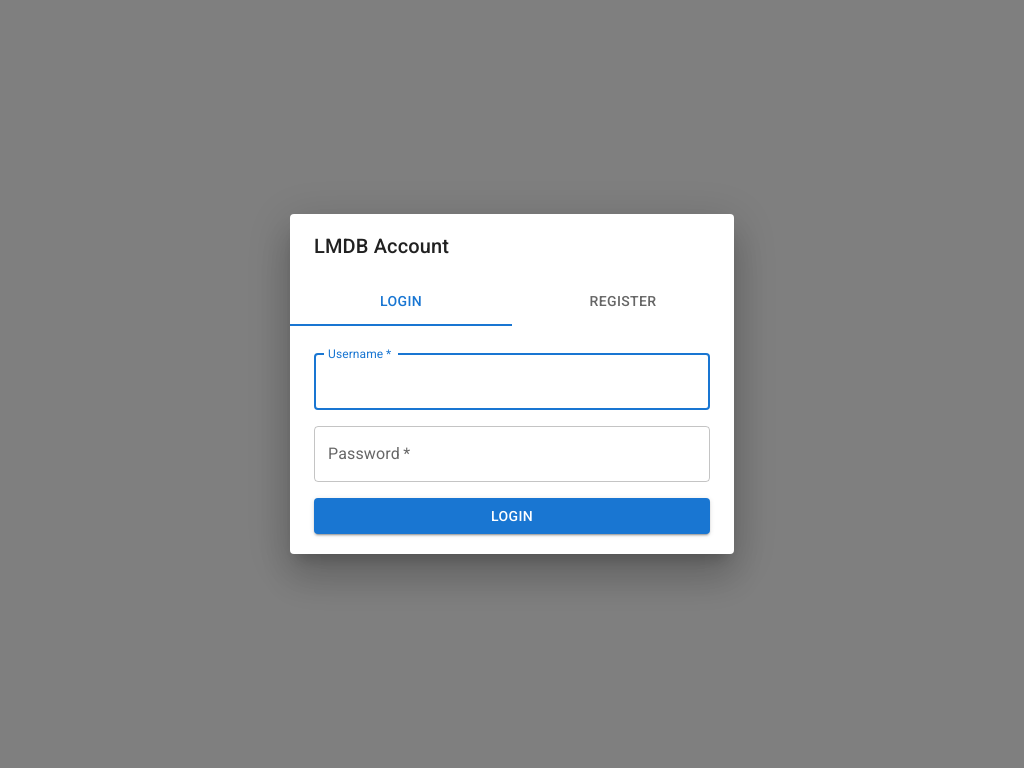
Test: LoginDialog › shows the Register fields only after switching tabs
Expected: the field labelled "email" is not shown
Click the tab "Register": (623, 302) [512,278,734,326]
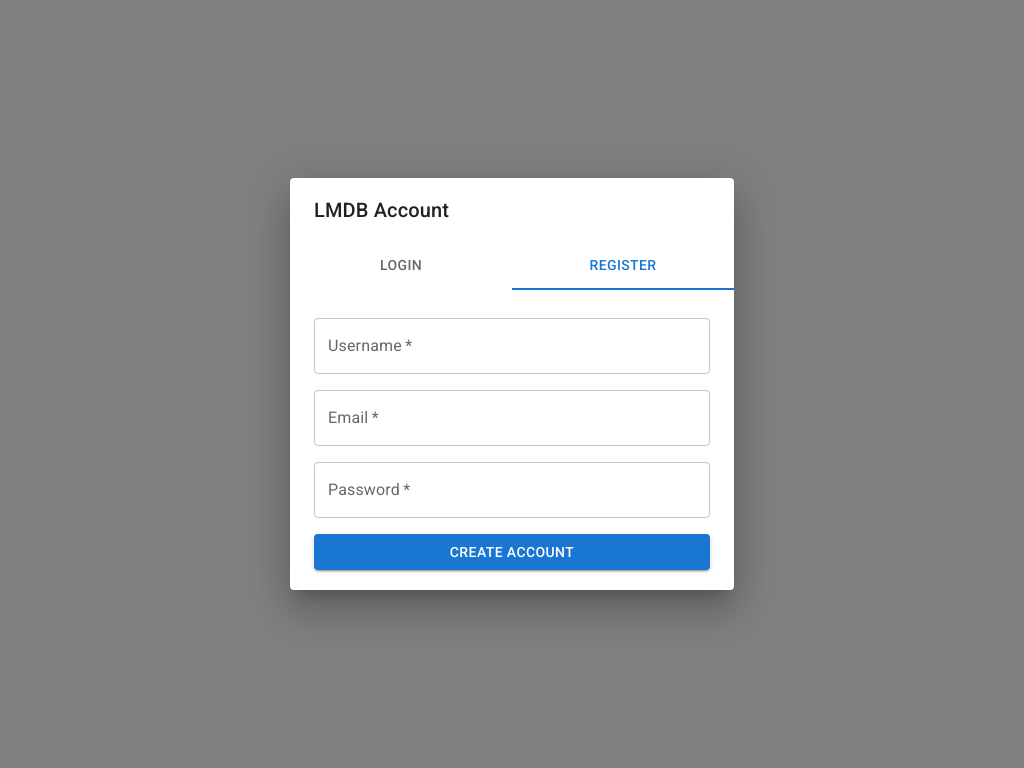
Result: the field labelled "Email *" is shown at [314,390,710,446]
